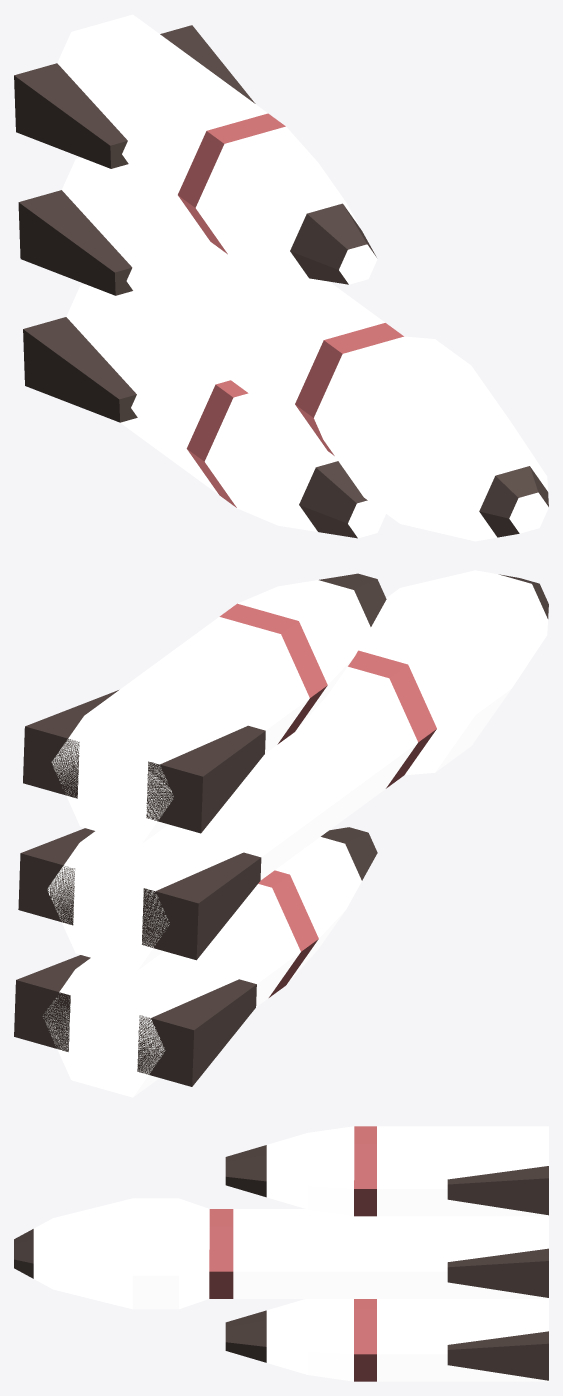
The model's file is rocket.glb.
3 renders of one model, top to bottom at view 1: azimuth 30°, elevation 25°; view 2: azimuth 150°, elevation 25°; view 3: azimuth 270°, elevation 25°, orthographic. The views are drawn at different scales.
Visible parts, largest first — view 1: Plane.004; view 2: Plane.004; view 3: Plane.004.
Part boxes in pixels (x1=…): Plane.004: x1=14, y1=14, x2=548, y2=541; Plane.004: x1=14, y1=570, x2=548, y2=1097; Plane.004: x1=14, y1=1126, x2=548, y2=1381.
Size of the model in its own units: 0.2329 by 0.4355 by 0.897.
